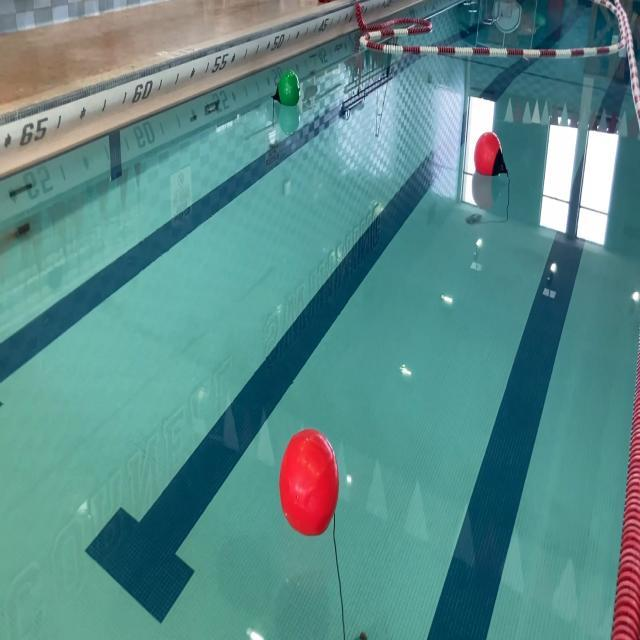buoy: (278, 426, 340, 536), (472, 132, 508, 180), (272, 70, 302, 108)
